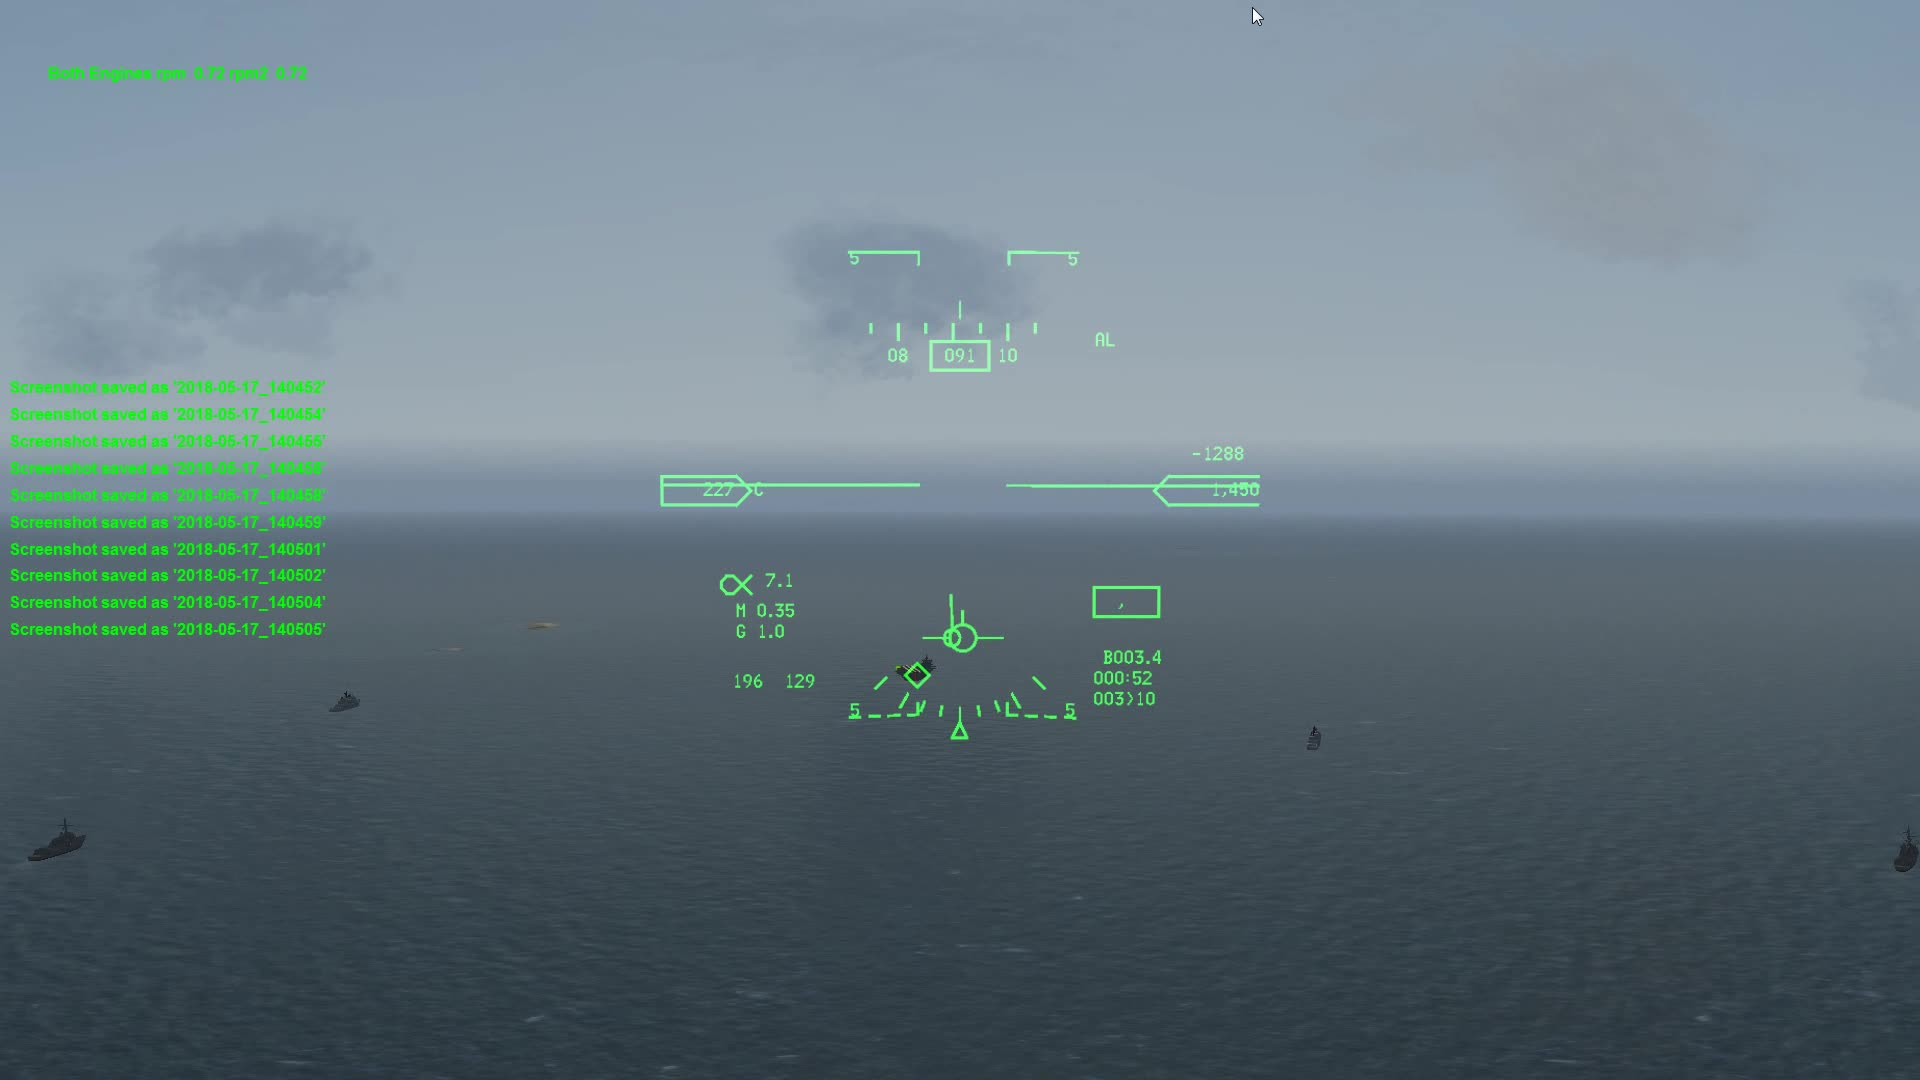speed vector: (922, 583, 1007, 665)
